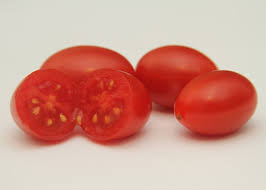tomate: (12, 42, 259, 145)
